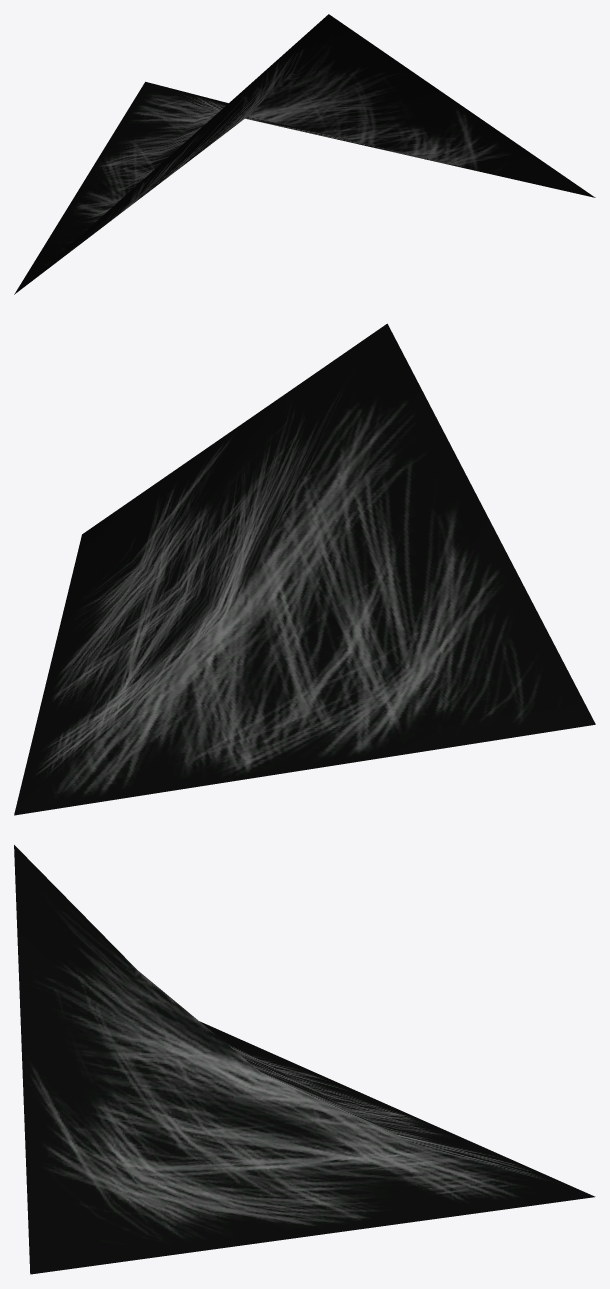
The model's file is EKH_GROTTO_PS_GR_CORNER_WEB__NC.fbx.
3 views of the same model, one above another, from view 1: azimuth 30°, elevation 25°; view 2: azimuth 150°, elevation 25°; view 3: azimuth 270°, elevation 25° (orthographic). The views are drawn at different scales.
Visible parts, largest first — view 1: EKH_GROTTO_PS_GR_CORNER_WEB__NC; view 2: EKH_GROTTO_PS_GR_CORNER_WEB__NC; view 3: EKH_GROTTO_PS_GR_CORNER_WEB__NC.
Part boxes in pixels (x1,y1,x2,y2): EKH_GROTTO_PS_GR_CORNER_WEB__NC: [14, 14, 595, 294]; EKH_GROTTO_PS_GR_CORNER_WEB__NC: [14, 323, 595, 815]; EKH_GROTTO_PS_GR_CORNER_WEB__NC: [14, 845, 595, 1274].
Bounding box in the file's own units: 27947 × 14189 × 24203.
Materials: 1 (1 with a texture image).
